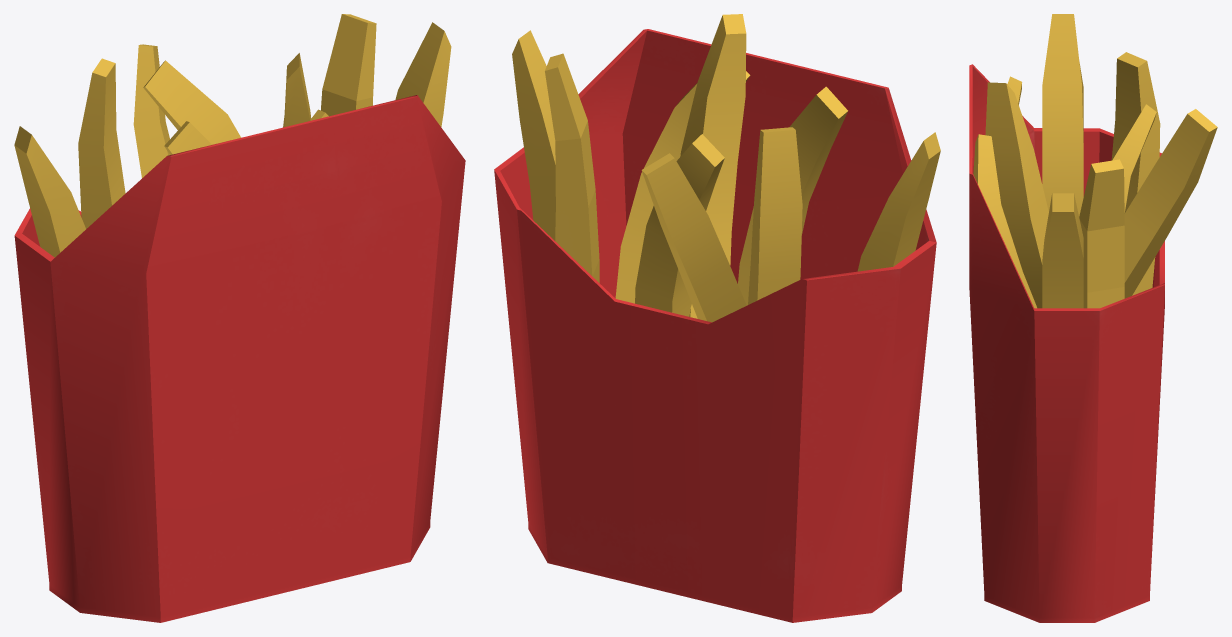
The model's file is fries.fbx.
3 views of the same model, side by side, from view 1: azimuth 30°, elevation 25°; view 2: azimuth 150°, elevation 25°; view 3: azimuth 270°, elevation 25° (orthographic). The views are drawn at different scales.
Visible parts, largest first — view 1: pCube2, pCube8, pCube7, pCube4, pCube5, pCube3, pCube25, pCube10, pCube9; view 2: pCube2, pCube10, pCube25, pCube8, pCube4, pCube3, pCube5, pCube7, pCube9, pCube6; view 3: pCube2, pCube10, pCube25, pCube7, pCube4, pCube3, pCube8, pCube6, pCube5.
Boxes of the visible parts, x1=… form: pCube2: x1=14, y1=95, x2=465, y2=622; pCube8: x1=78, y1=58, x2=125, y2=228; pCube7: x1=14, y1=126, x2=85, y2=257; pCube4: x1=321, y1=14, x2=376, y2=116; pCube5: x1=143, y1=60, x2=240, y2=144; pCube3: x1=395, y1=22, x2=451, y2=126; pCube25: x1=133, y1=44, x2=169, y2=177; pCube10: x1=283, y1=53, x2=311, y2=127; pCube9: x1=164, y1=121, x2=211, y2=154; pCube2: x1=494, y1=29, x2=936, y2=622; pCube10: x1=680, y1=14, x2=746, y2=318; pCube25: x1=641, y1=153, x2=746, y2=322; pCube8: x1=748, y1=127, x2=802, y2=304; pCube4: x1=545, y1=53, x2=599, y2=282; pCube3: x1=512, y1=30, x2=555, y2=240; pCube5: x1=635, y1=134, x2=724, y2=316; pCube7: x1=857, y1=132, x2=940, y2=271; pCube9: x1=738, y1=86, x2=847, y2=305; pCube6: x1=615, y1=71, x2=750, y2=303; pCube2: x1=969, y1=64, x2=1164, y2=622; pCube10: x1=985, y1=82, x2=1048, y2=308; pCube25: x1=1124, y1=109, x2=1217, y2=298; pCube7: x1=1042, y1=14, x2=1083, y2=216; pCube4: x1=1079, y1=159, x2=1124, y2=308; pCube3: x1=1042, y1=193, x2=1083, y2=308; pCube8: x1=1111, y1=52, x2=1160, y2=295; pCube6: x1=973, y1=134, x2=1036, y2=308; pCube5: x1=1112, y1=104, x2=1156, y2=212.
Size of the model in its own units: 12.64 by 14.77 by 7.02.
